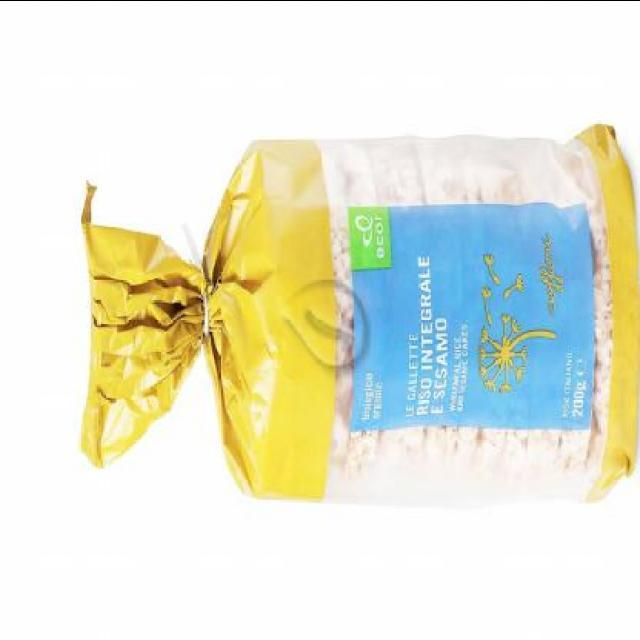Gallette di riso: (80, 116, 640, 512)
